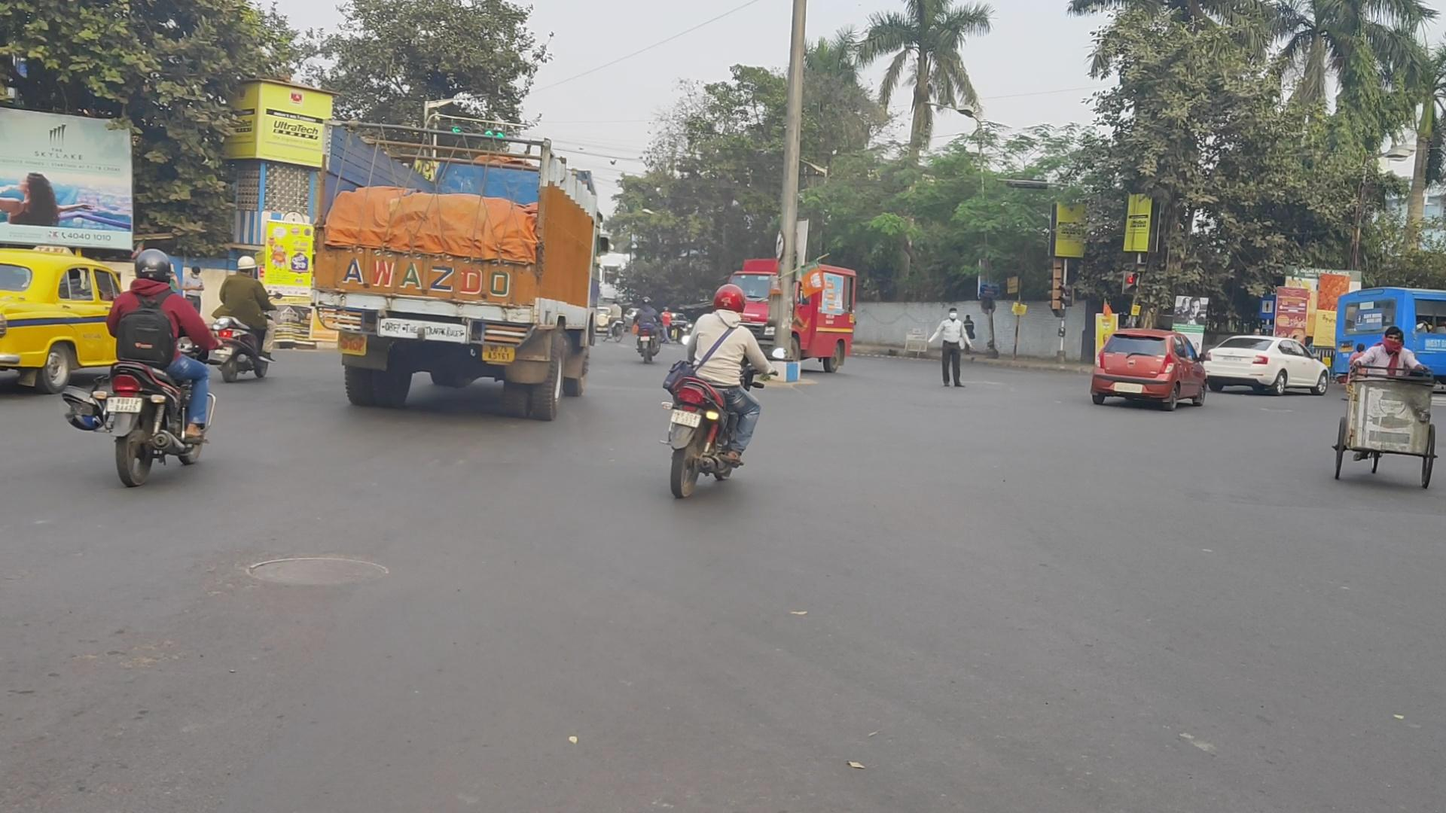Bus: (1332, 286, 1446, 397)
bike: (63, 248, 221, 487), (660, 285, 777, 498), (210, 255, 281, 382), (633, 297, 661, 364)
car: (1, 245, 155, 394), (1091, 327, 1207, 412), (1203, 335, 1329, 397)
truck: (312, 118, 610, 423), (719, 257, 857, 373)
